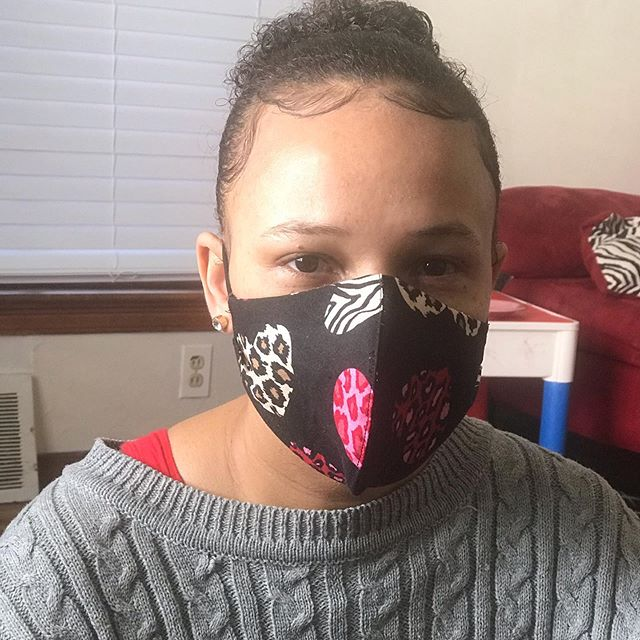homemade: (211, 276, 514, 494)
